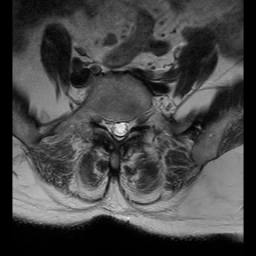CCS_normal: (115, 112, 122, 146)
LFS_normal: (129, 108, 138, 133)
LLS_normal: (122, 112, 129, 142)
RFS_normal: (100, 108, 108, 135)
RLS_normal: (108, 111, 115, 142)
